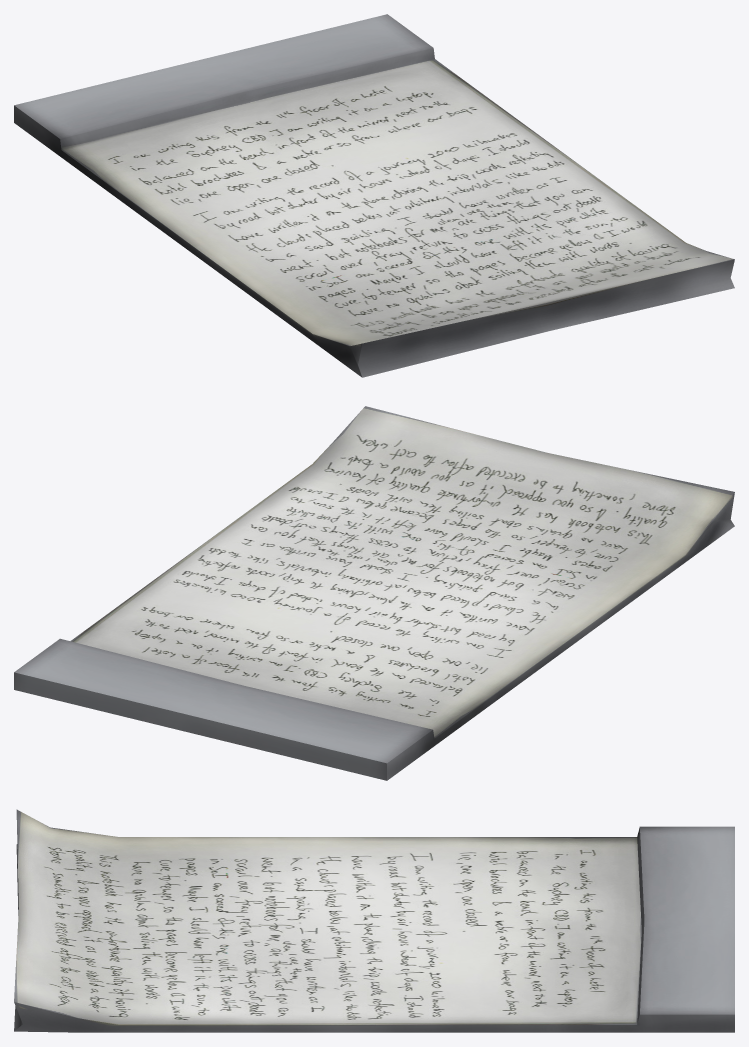
File: Notepad.FBX
The picture shows the model from 3 angles, top to bottom: view 1: azimuth 30°, elevation 25°; view 2: azimuth 150°, elevation 25°; view 3: azimuth 270°, elevation 25°; orthographic projection. The views are drawn at different scales.
Visible parts, largest first — view 1: Box118; view 2: Box118; view 3: Box118.
Part boxes in pixels (x1=…): Box118: x1=14, y1=14, x2=734, y2=377; Box118: x1=14, y1=406, x2=734, y2=780; Box118: x1=14, y1=809, x2=734, y2=1032.
Bounding box in the file's own units: 48.61 × 4.27 × 78.8.
1 material, 1 textured.
